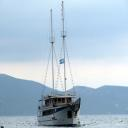cruises: (37, 89, 83, 128)
